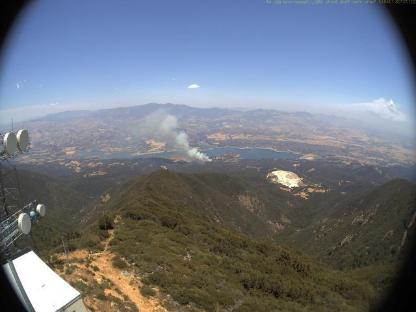smoke: (134, 104, 214, 163)
